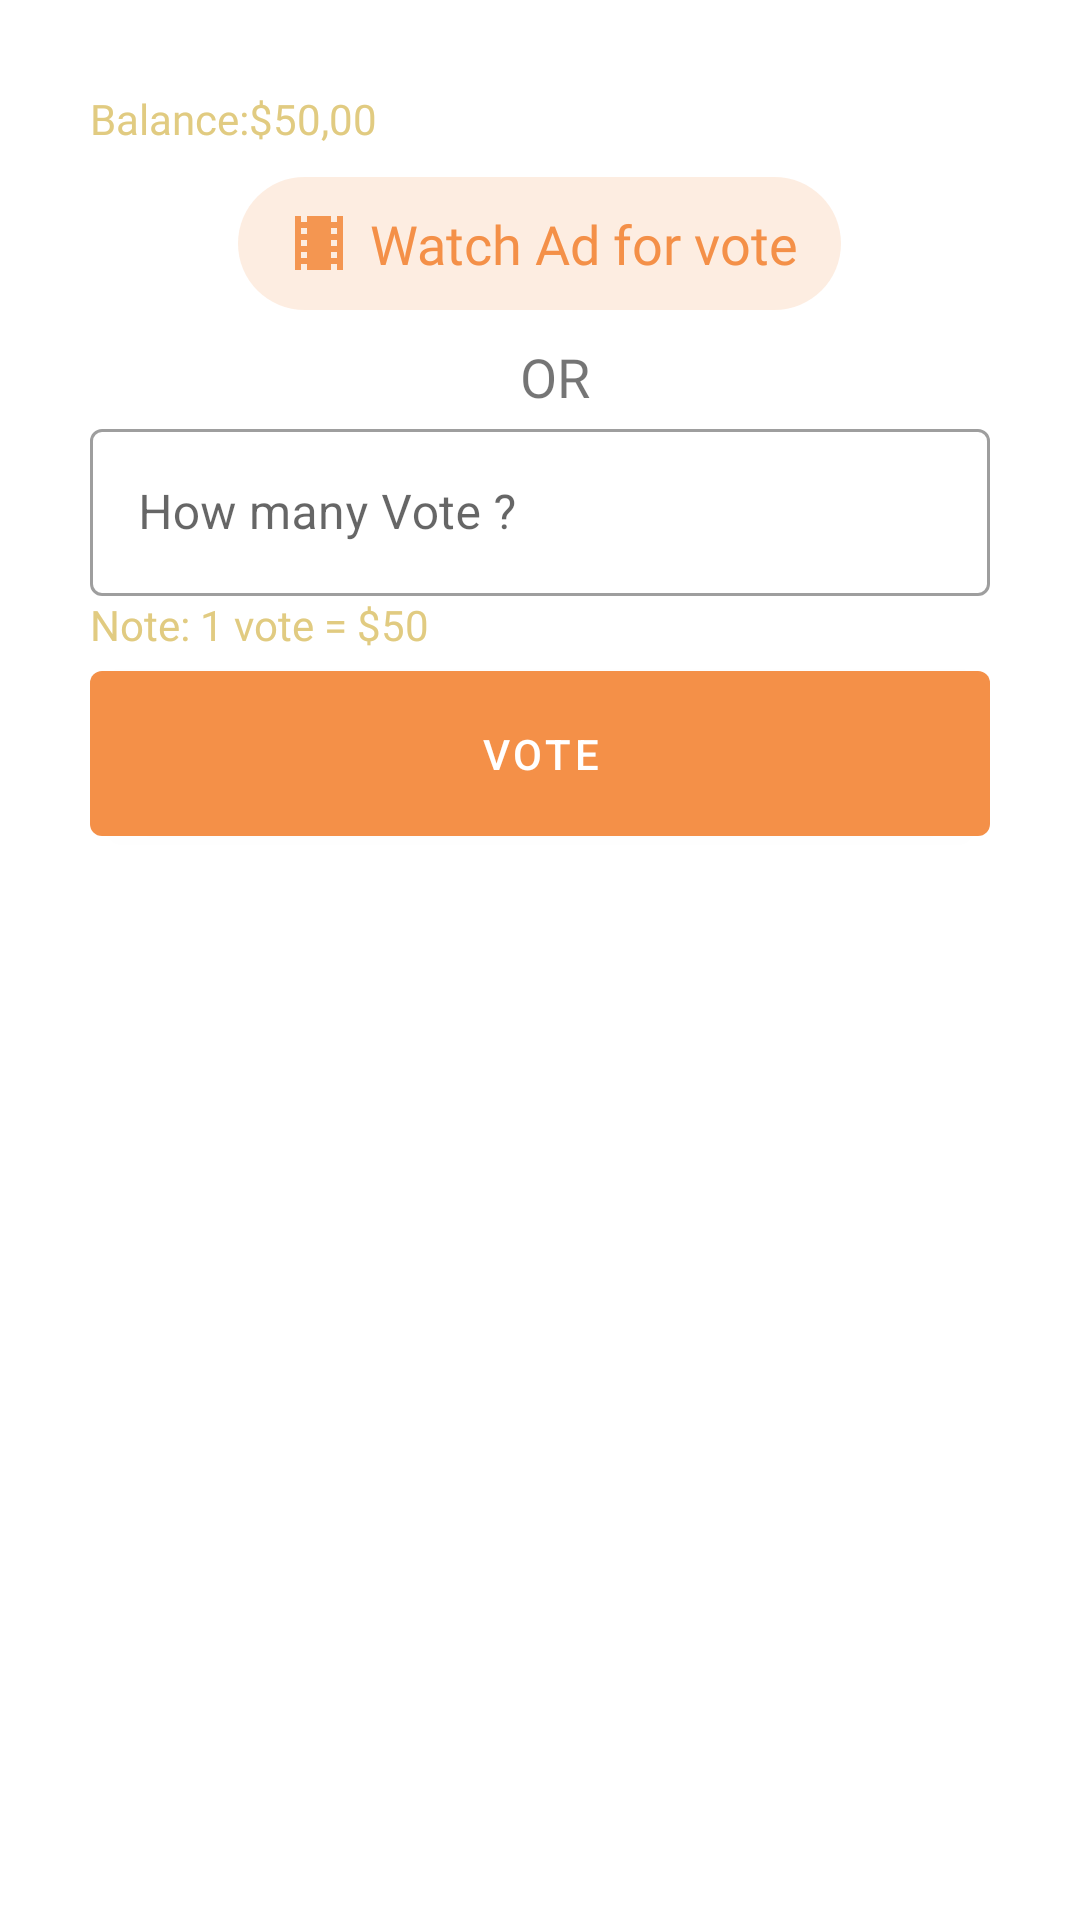

Named icons in this screenshot (1080*1920) and their bounding boxes, (x1, y1, x2, y2):
movie: (295, 216, 343, 270)
